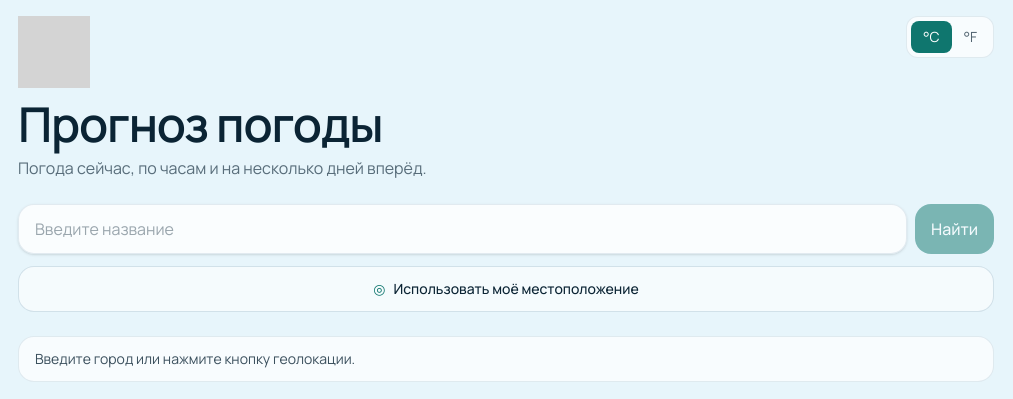
it: WeatherApp scenarios › shows not found message
Type "zzzzz" into the search field named "Поиск города".
click(462, 229); type("zzzzz")  # box [18,204,907,254]
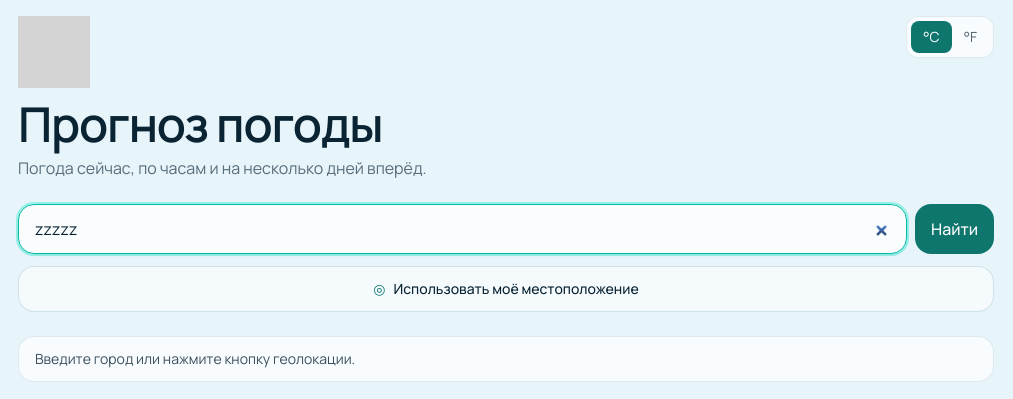
Click the button "Найти".
click(954, 229)  # box [915,204,994,254]
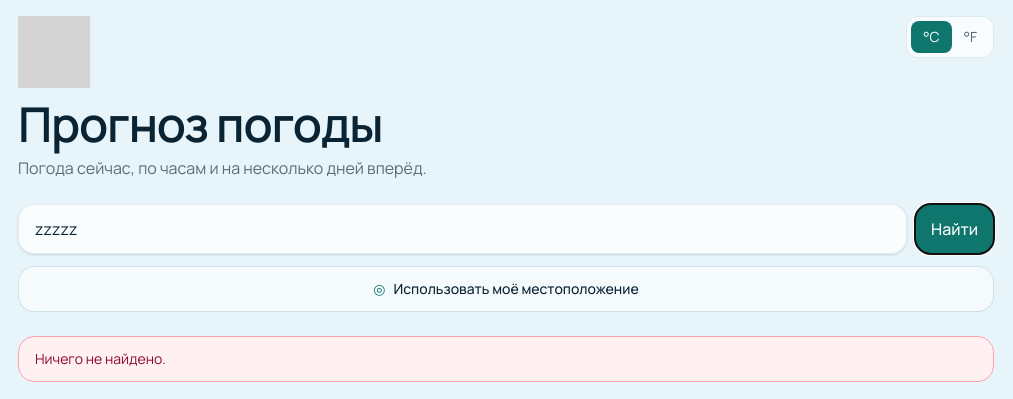
Expected: the text "Ничего не найдено." is shown, [18,336,994,382]
